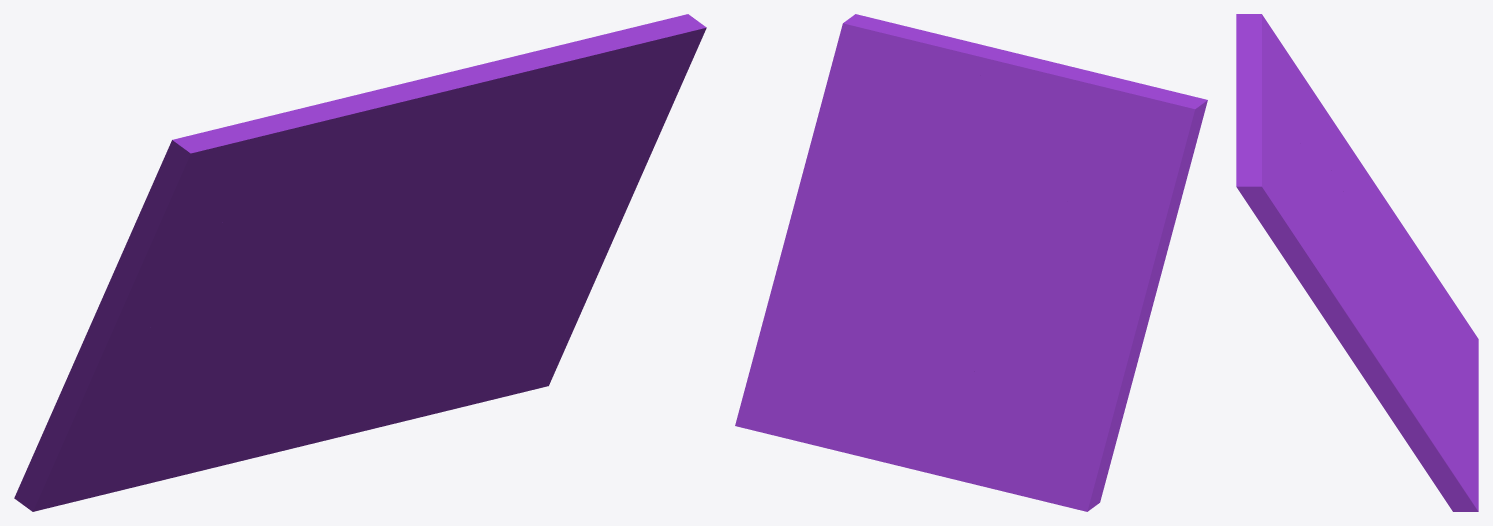
File: Window_34_chunks.fbx
3 renders of one model, left to right at view 1: azimuth 30°, elevation 25°; view 2: azimuth 150°, elevation 25°; view 3: azimuth 270°, elevation 25°, orthographic. The views are drawn at different scales.
Visible parts, largest first — view 1: Window_34_9, Window_34_2, Window_34_11, Window_34_8, Window_34_5, Window_34_0, Window_34_6, Window_34_10, Window_34_13, Window_34_1, Window_34_14, Window_34_12 (+9 smaller); view 2: Window_34_9, Window_34_2, Window_34_11, Window_34_10, Window_34_3, Window_34_4, Window_34_13, Window_34_8, Window_34_1, Window_34_20, Window_34_5, Window_34_6 (+7 smaller); view 3: Window_34_9, Window_34_11, Window_34_2, Window_34_13, Window_34_10, Window_34_3, Window_34_4, Window_34_8, Window_34_20, Window_34_1, Window_34_5, Window_34_6 (+4 smaller).
Boxes of the visible parts, left/top/right/bottom form: Window_34_9: left=473, top=14, right=706, bottom=171; Window_34_2: left=138, top=85, right=395, bottom=223; Window_34_11: left=313, top=279, right=595, bottom=443; Window_34_8: left=358, top=66, right=494, bottom=273; Window_34_5: left=24, top=354, right=220, bottom=511; Window_34_0: left=112, top=217, right=293, bottom=331; Window_34_6: left=204, top=274, right=377, bottom=468; Window_34_10: left=240, top=303, right=406, bottom=461; Window_34_13: left=455, top=231, right=616, bottom=314; Window_34_1: left=273, top=167, right=376, bottom=289; Window_34_14: left=78, top=298, right=249, bottom=370; Window_34_12: left=360, top=263, right=460, bottom=343; Window_34_9: left=803, top=14, right=1001, bottom=171; Window_34_2: left=1019, top=67, right=1207, bottom=204; Window_34_11: left=735, top=303, right=893, bottom=464; Window_34_10: left=880, top=254, right=976, bottom=483; Window_34_3: left=1005, top=201, right=1162, bottom=339; Window_34_4: left=970, top=361, right=1101, bottom=511; Window_34_13: left=768, top=225, right=956, bottom=335; Window_34_8: left=927, top=50, right=1072, bottom=242; Window_34_1: left=961, top=125, right=1061, bottom=292; Window_34_20: left=789, top=165, right=899, bottom=239; Window_34_5: left=1060, top=335, right=1144, bottom=506; Window_34_6: left=972, top=293, right=1017, bottom=434; Window_34_9: left=1236, top=114, right=1341, bottom=315; Window_34_11: left=1388, top=361, right=1478, bottom=511; Window_34_2: left=1236, top=14, right=1324, bottom=157; Window_34_13: left=1359, top=259, right=1414, bottom=414; Window_34_10: left=1364, top=257, right=1478, bottom=433; Window_34_3: left=1319, top=113, right=1385, bottom=252; Window_34_4: left=1409, top=265, right=1478, bottom=395; Window_34_8: left=1236, top=80, right=1357, bottom=246; Window_34_20: left=1327, top=243, right=1370, bottom=370; Window_34_1: left=1291, top=137, right=1378, bottom=264; Window_34_5: left=1391, top=208, right=1449, bottom=296; Window_34_6: left=1382, top=272, right=1453, bottom=363.
Size of the model in its own units: 1059 by 930 by 628.
